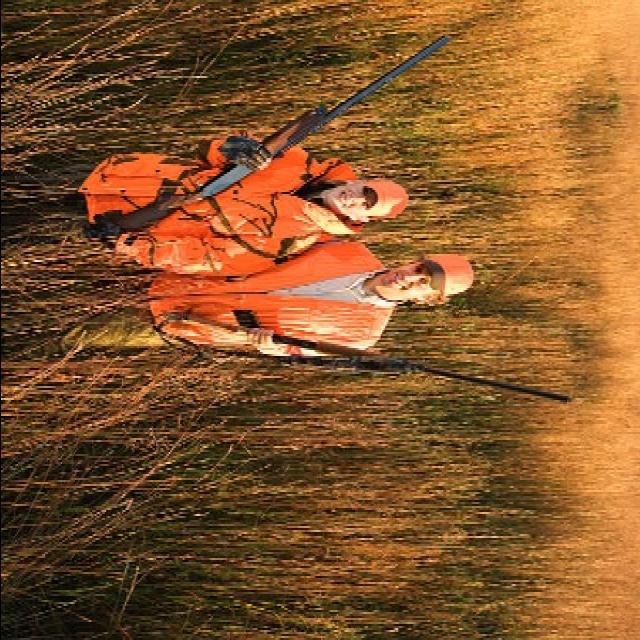rifle: (84, 31, 454, 255), (155, 309, 576, 413)
